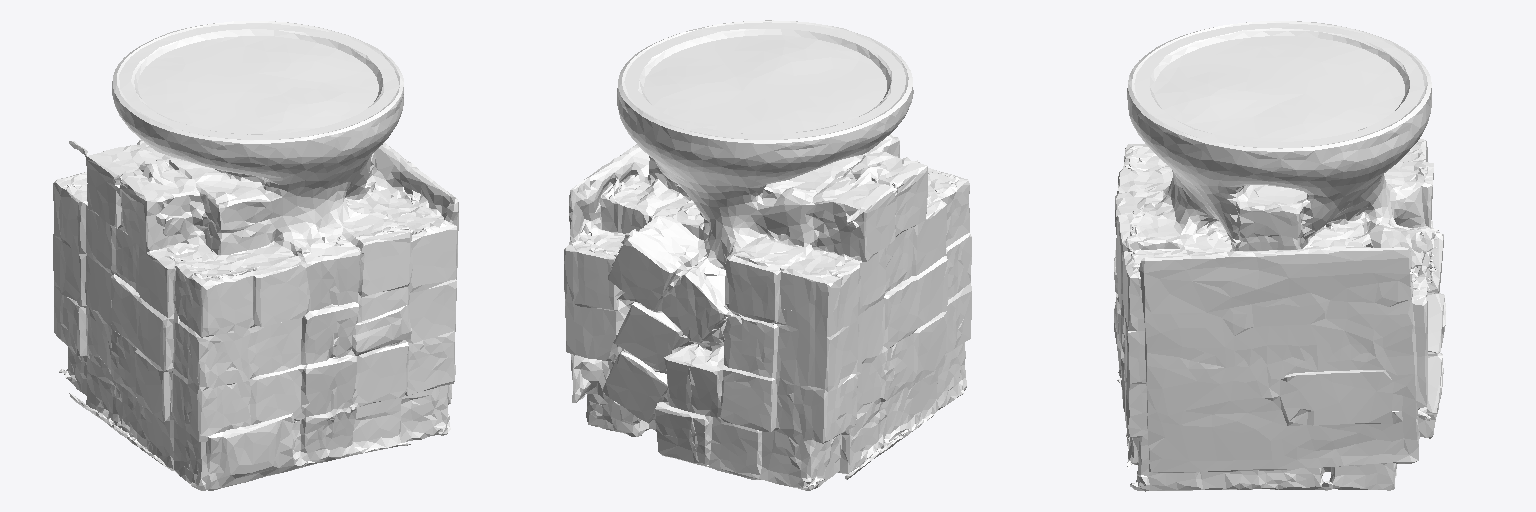
robot.urdf — a_colored_wood_blocks:
<robot name="a_colored_wood_blocks">
    <link name="base_link">
        <visual>
            <origin xyz="0.0 0.0 0.0" rpy="0.0 0.0 0.0" />
            <geometry>
                <mesh filename="a_colored_wood_blocks/textured.obj" scale="1 1 1" />
            </geometry>
            <material name="texture">
                <color rgba="1.0 1.0 1.0 1.0" />
            </material>
        </visual>
        <collision>
            <origin xyz="0.0 0.0 0.0" rpy="0.0 0.0 0.0" />
            <geometry>
                <mesh filename="a_colored_wood_blocks/textured_coacd_0.stl" scale="1 1 1" />
            </geometry>
        </collision>
        <collision>
            <origin xyz="0.0 0.0 0.0" rpy="0.0 0.0 0.0" />
            <geometry>
                <mesh filename="a_colored_wood_blocks/textured_coacd_1.stl" scale="1 1 1" />
            </geometry>
        </collision>
        <collision>
            <origin xyz="0.0 0.0 0.0" rpy="0.0 0.0 0.0" />
            <geometry>
                <mesh filename="a_colored_wood_blocks/textured_coacd_2.stl" scale="1 1 1" />
            </geometry>
        </collision>
        <collision>
            <origin xyz="0.0 0.0 0.0" rpy="0.0 0.0 0.0" />
            <geometry>
                <mesh filename="a_colored_wood_blocks/textured_coacd_3.stl" scale="1 1 1" />
            </geometry>
        </collision>
        <collision>
            <origin xyz="0.0 0.0 0.0" rpy="0.0 0.0 0.0" />
            <geometry>
                <mesh filename="a_colored_wood_blocks/textured_coacd_4.stl" scale="1 1 1" />
            </geometry>
        </collision>
        <inertial>
            <mass value="0.0108" />
            <inertia ixx="1e-3" ixy="0.0" ixz="0.0" iyy="1e-3" iyz="0.0" izz="1e-3" />
        </inertial>
    </link>
</robot>

--- Facts derived from the render (not from the file) ---
Views: 3 orthographic renders of the robot side by side, from view 1: azimuth 30°, elevation 25°; view 2: azimuth 150°, elevation 25°; view 3: azimuth 270°, elevation 25°.
Robot: a_colored_wood_blocks — 1 links, 0 joints (none); root link base_link; default pose: every joint at zero.
Links seen in each view (by area): view 1: base_link; view 2: base_link; view 3: base_link.
Boxes of the visible links, box(x1,y1,x2,y2) form: base_link: box(53, 20, 458, 490); base_link: box(564, 20, 971, 490); base_link: box(1114, 21, 1445, 491).
Bounding box of the posed robot: 0.1408 × 0.1421 × 0.1655 m (x, y, z).
1 mesh visuals loaded from 1 distinct referenced files (1 OBJ).